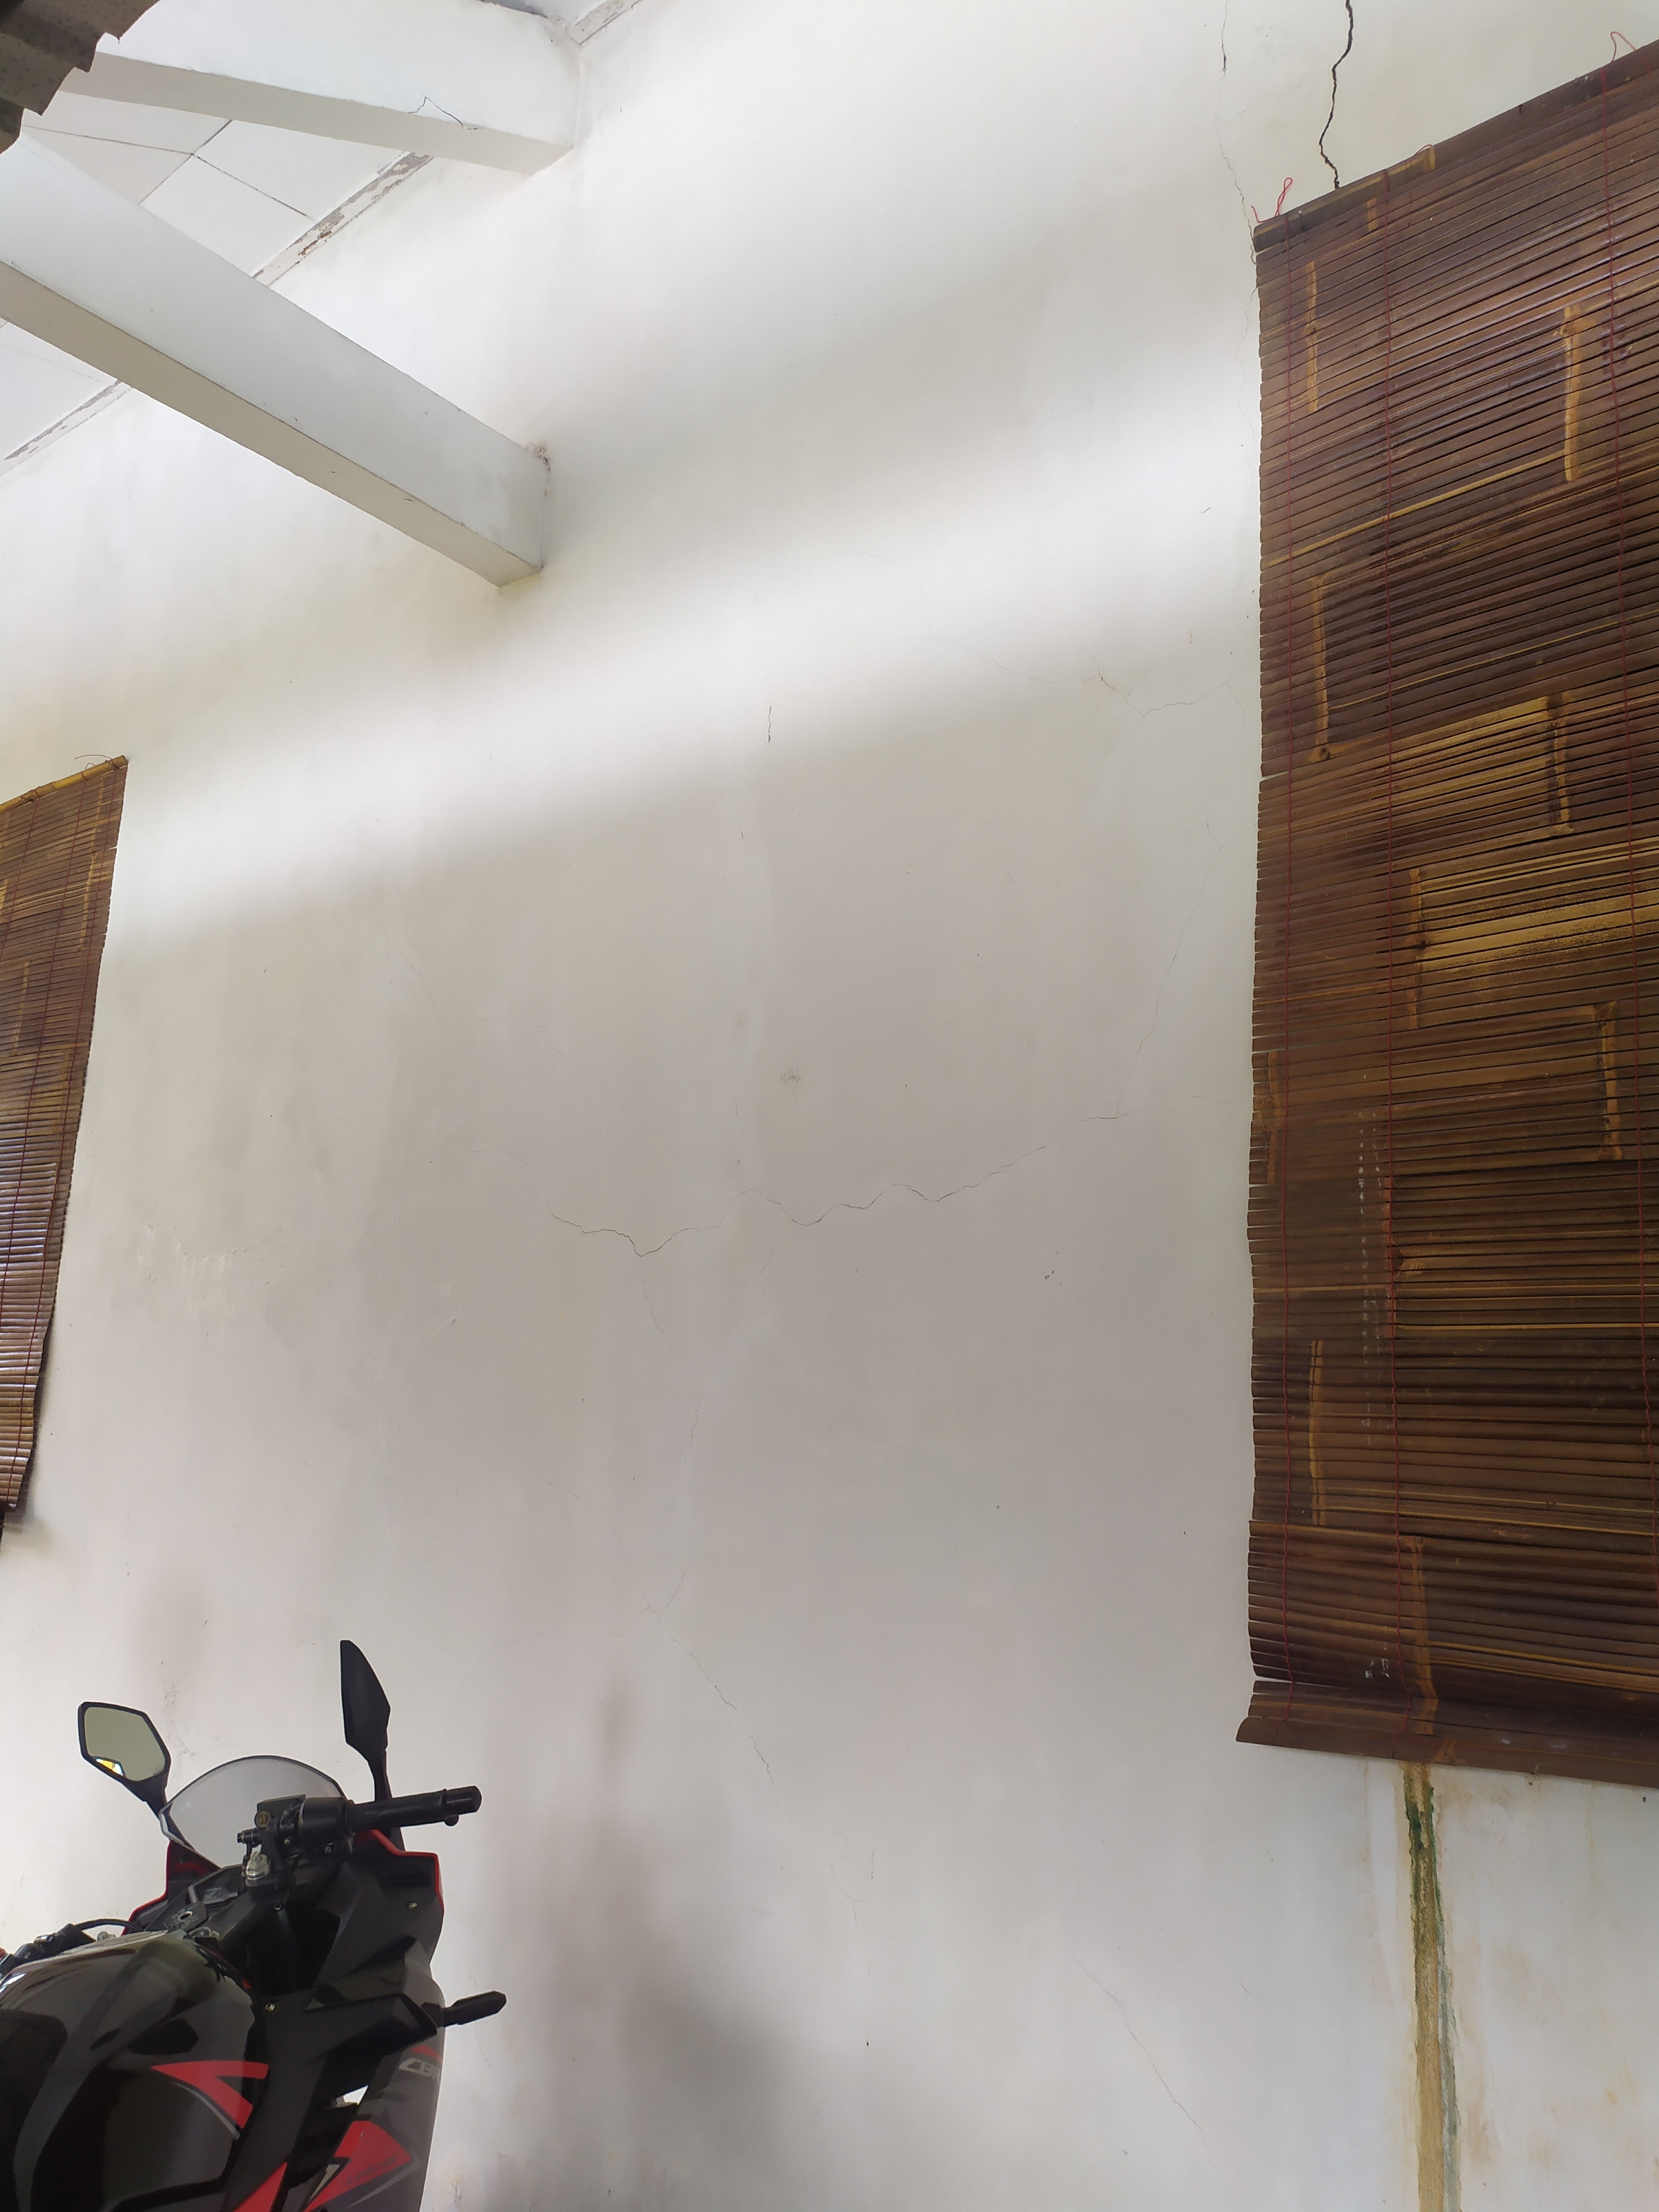concrete beam: (14, 167, 577, 601)
crack: (756, 1106, 1147, 1230), (1309, 2, 1371, 197), (547, 1204, 727, 1268)
